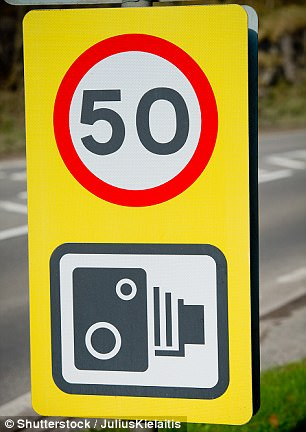Speed_limit_50km: (52, 33, 218, 207)
